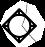ress_can_light: (0, 0, 45, 47)
